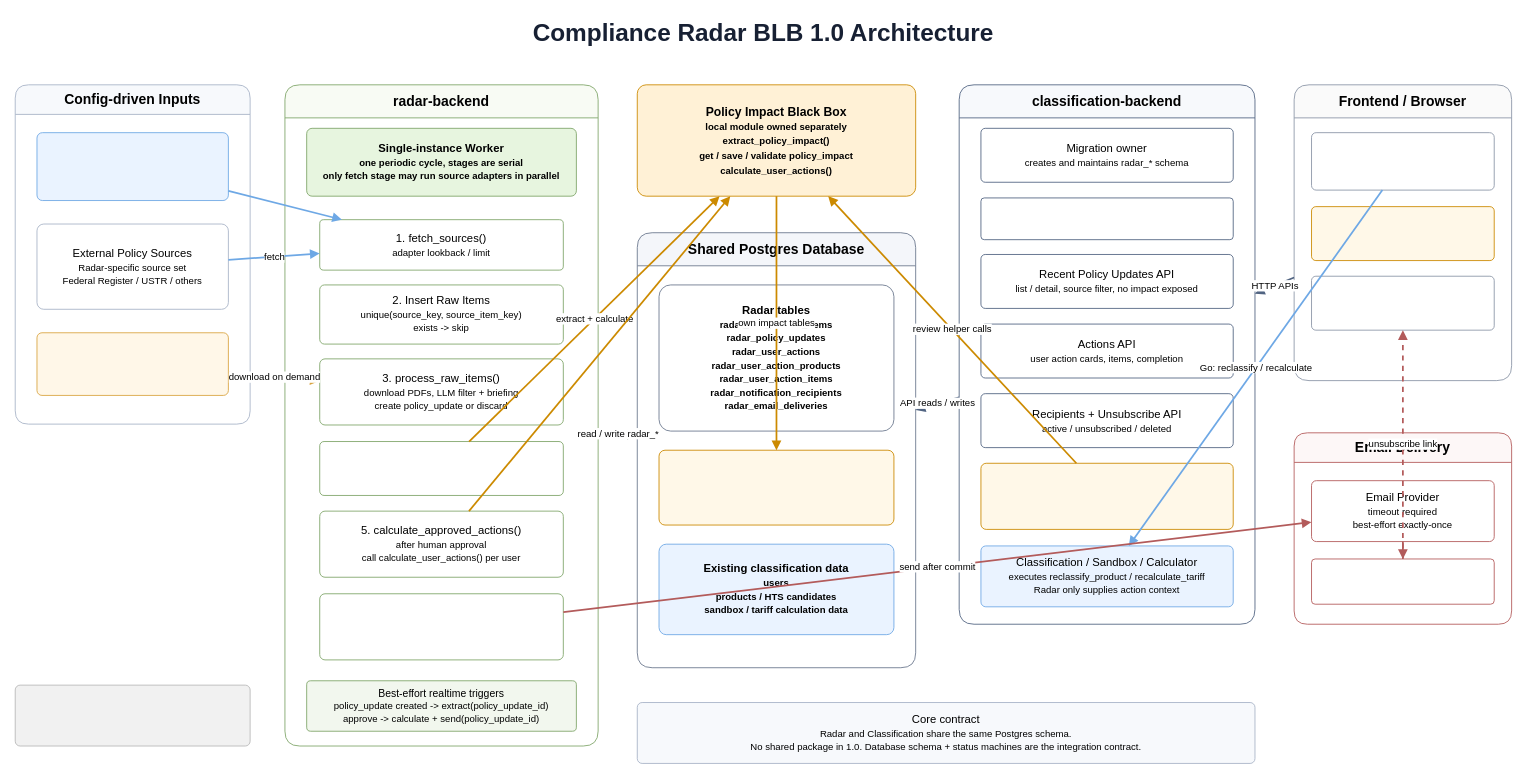
The diagram is 1527 pixels wide and 779 high, and some of its shapes have lost their labels. The centre of each missing label's shape, as x and y in pixels:
4. extract_policy_impacts() call black-box extract_policy_impact(): point 441,468
6. send_pending_emails() FOR UPDATE SKIP LOCKED best-effort external side effect: point 441,626
Attachments / PDFs URLs persisted, body downloaded on demand: point 132,363
Black-box policy impact tables schema owned by black-box stored in the same DB: point 776,487
Compliance Radar UI Recent Updates + Actions + Recipients: point 1402,161
Existing Auth + User Context: point 1106,218
gov-backend is out of scope No dependency, no code changes, no shared pipeline: point 132,715
Recipient Inbox Impact Action notification only: point 1402,581
Review API REVIEW_TOKEN view / edit / approve / reject policy impact: point 1106,495
Review UI token-authenticated internal reviewer: point 1402,233
Source Config YAML source_key / source_label / adapter / fetch config: point 132,166
Unsubscribe Page frontend URL from env: point 1402,302
